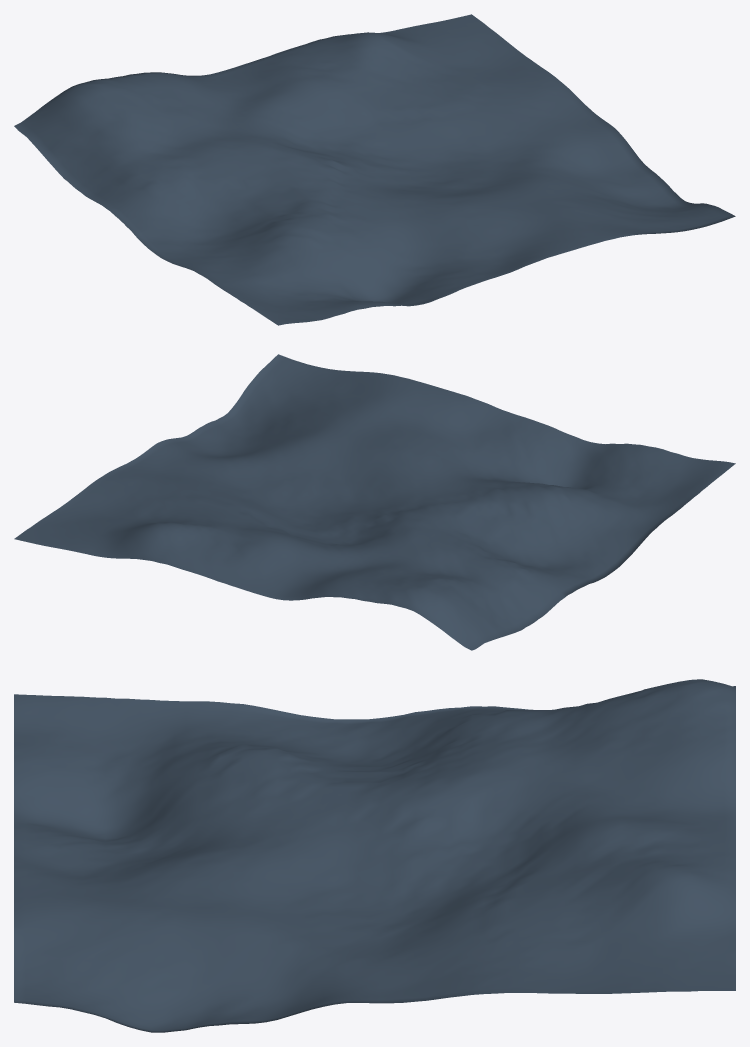
The model's file is landmesh1.fbx.
3 renders of one model, top to bottom at view 1: azimuth 30°, elevation 25°; view 2: azimuth 150°, elevation 25°; view 3: azimuth 270°, elevation 25°, orthographic. The views are drawn at different scales.
Parts seen in each view (by area): view 1: Landscape_0; view 2: Landscape_0; view 3: Landscape_0.
Boxes of the visible parts, left/top/right/bottom form: Landscape_0: left=14, top=14, right=735, bottom=325; Landscape_0: left=14, top=354, right=735, bottom=650; Landscape_0: left=14, top=679, right=735, bottom=1032.
Bounding box in the file's own units: 6300 × 6300 × 967.
